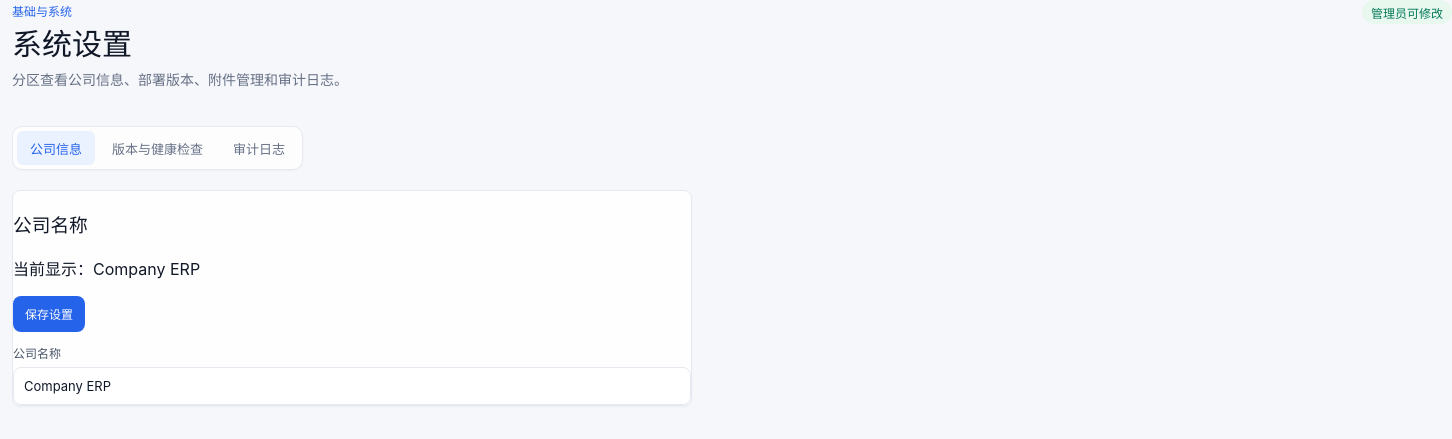
Test: SystemSettingsWorkspace › shows a clear audit export failure state
The width and height of the screenshot is (1452, 439).
Click the tab "审计日志".
click(259, 148)  # box [220,132,298,166]
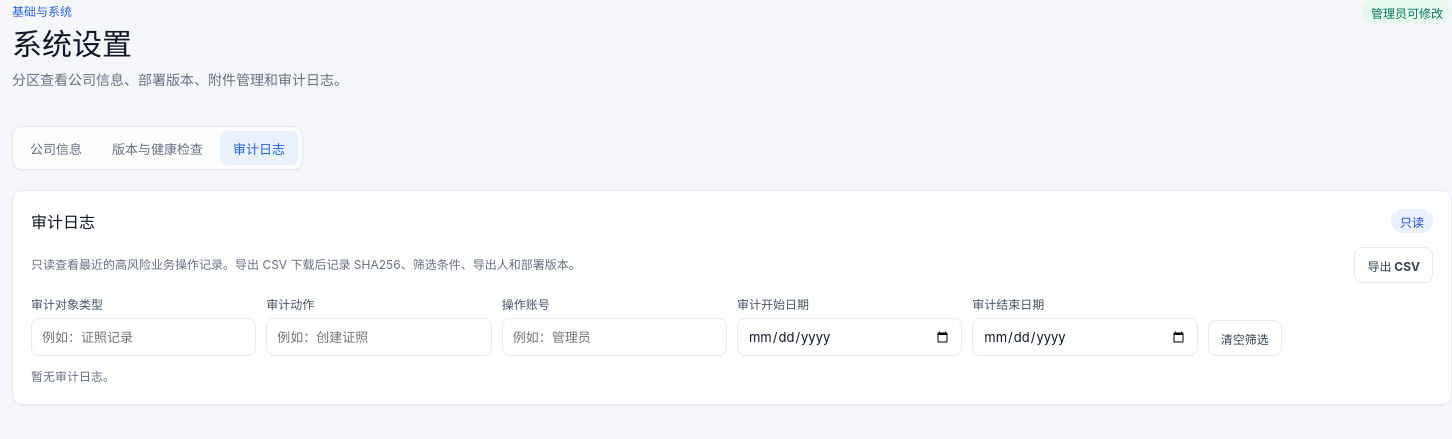
Expected: the text "暂无审计日志。" is shown, [31,370,115,384]
Click the button "导出 CSV".
click(1394, 266)  # box [1354,248,1433,284]
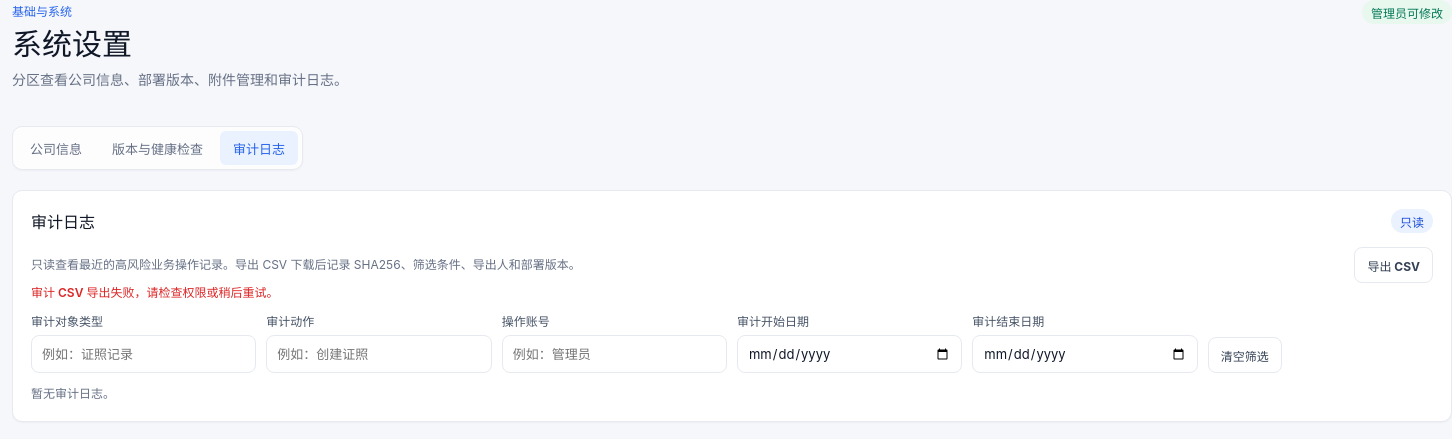
Expected: the text "审计 CSV 导出失败，请检查权限或稍后重试。" is shown, [31,286,278,300]
